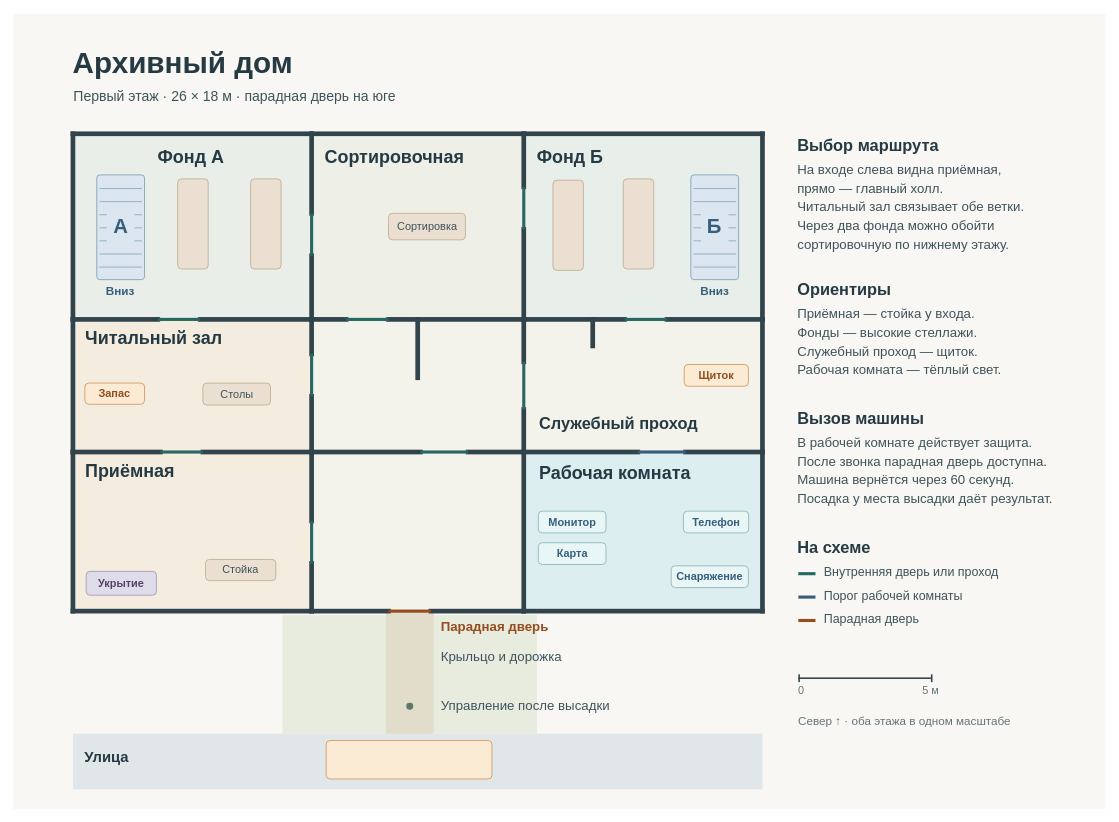
The diagram is 1119 pixels wide and 822 high, and some of its shapes have lost their labels. The centre of each missing label's shape, as x and y in pixels:
Вестибюль: (417,531)
Главный холл: (417,385)
Машина компании: (408,759)
